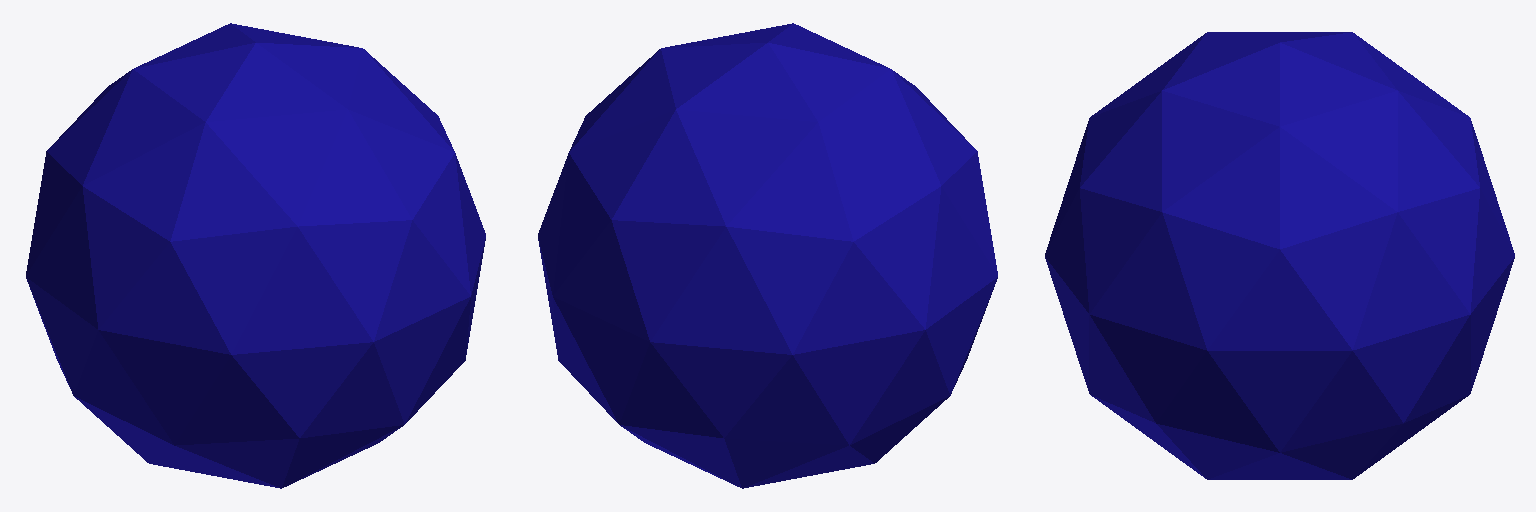
The model's file is crystal.obj.
The picture shows the model from 3 angles: view 1: azimuth 30°, elevation 25°; view 2: azimuth 150°, elevation 25°; view 3: azimuth 270°, elevation 25°; orthographic projection.
Parts seen in each view (by area): view 1: Icosphere; view 2: Icosphere; view 3: Icosphere.
Boxes of the visible parts, <box> form: Icosphere: <box>26,23,485,488</box>; Icosphere: <box>538,23,997,488</box>; Icosphere: <box>1045,32,1514,479</box>.
Bounding box in the file's own units: 1.9 × 2 × 2.